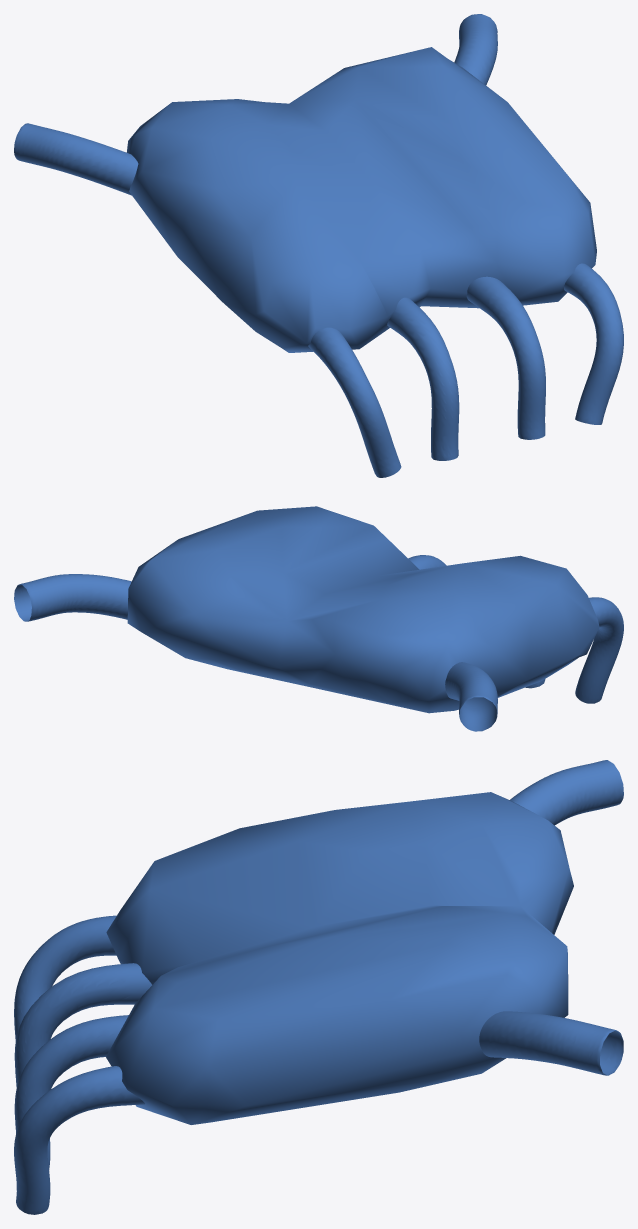
3 views of the same model, one above another, from view 1: azimuth 30°, elevation 25°; view 2: azimuth 150°, elevation 25°; view 3: azimuth 270°, elevation 25° (orthographic). The views are drawn at different scales.
Parts seen in each view (by area): view 1: 基底静脉丛; view 2: 基底静脉丛; view 3: 基底静脉丛.
Boxes of the visible parts, x1,y1,x2,y2 form: 基底静脉丛: [14, 14, 623, 477]; 基底静脉丛: [14, 506, 623, 731]; 基底静脉丛: [14, 760, 623, 1214].
Bounding box in the file's own units: 0.0286 × 0.013 × 0.0256.
